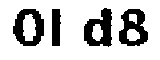0: (11, 4, 44, 51)
8: (117, 5, 149, 52)
d: (78, 5, 113, 51)
l: (49, 7, 72, 48)
